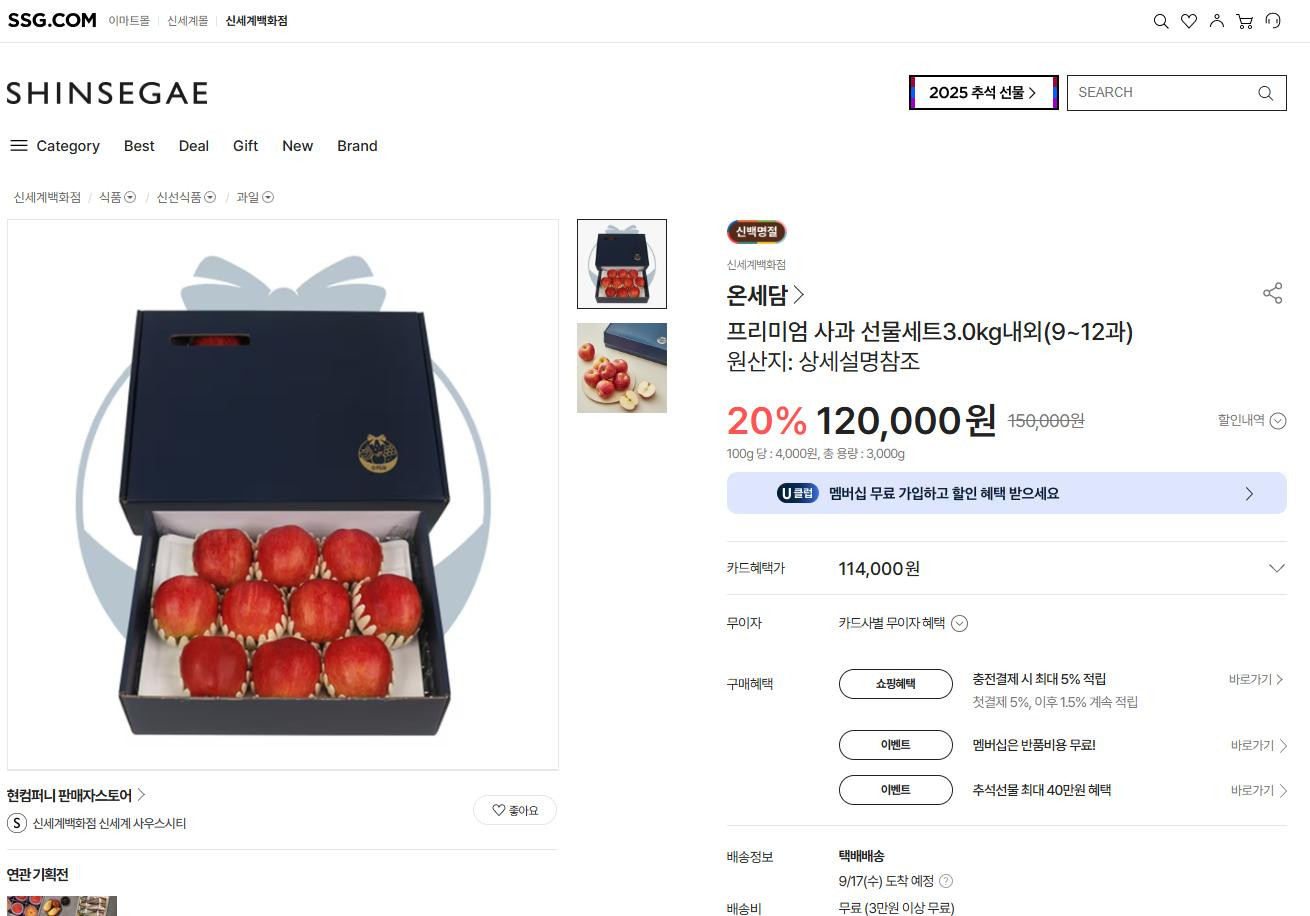button: (4, 779, 156, 808), (7, 127, 105, 167), (464, 794, 566, 831), (724, 273, 810, 311), (330, 122, 394, 166), (1223, 778, 1307, 810), (1218, 663, 1299, 696), (1224, 730, 1298, 764), (113, 124, 161, 171), (1250, 269, 1297, 313), (278, 120, 318, 171), (176, 124, 222, 166), (223, 8, 295, 33), (231, 123, 265, 170), (101, 10, 157, 32), (165, 10, 213, 35), (1145, 10, 1173, 36), (1233, 8, 1261, 33), (1178, 10, 1204, 33), (1263, 8, 1284, 33), (1208, 8, 1228, 32)
checkbox: (720, 543, 1293, 588), (717, 601, 993, 651), (1208, 400, 1299, 442)
input_field: (1063, 71, 1291, 115)
popup: (723, 466, 1291, 518), (906, 70, 1061, 113)
